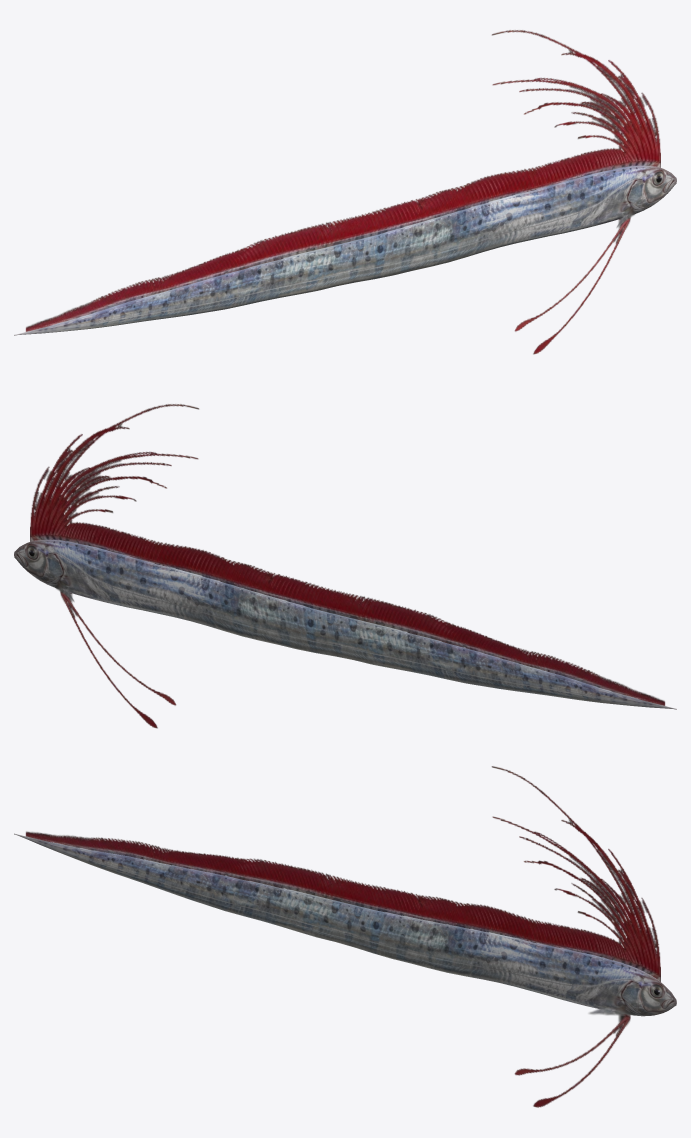
File: ryuuguu.glb
The picture shows the model from 3 angles, top to bottom: view 1: azimuth 30°, elevation 25°; view 2: azimuth 150°, elevation 25°; view 3: azimuth 330°, elevation 25°; orthographic projection.
Visible parts, largest first — view 1: ryuuguu; view 2: ryuuguu; view 3: ryuuguu.
Part boxes in pixels (x1,y1,x2,y2): ryuuguu: [14, 30, 676, 354]; ryuuguu: [14, 404, 676, 728]; ryuuguu: [14, 766, 676, 1107].
Bounding box in the file's own units: 3.45 × 1.65 × 0.2678.
1 material, 1 textured.
